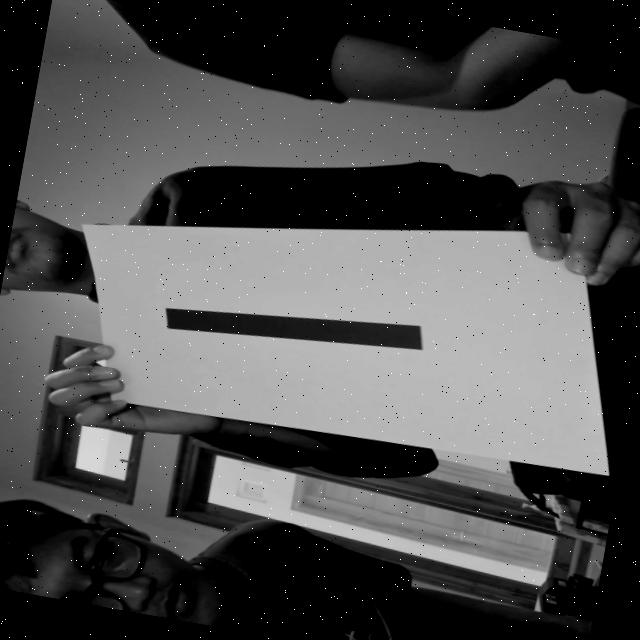i: (148, 248, 459, 388)
